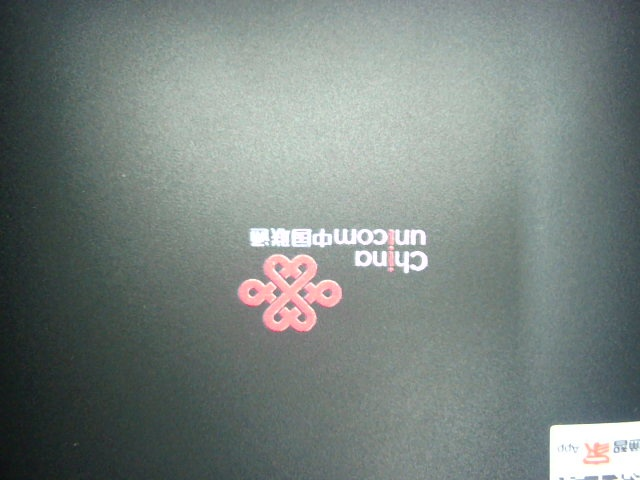AC_ChinaUnicom: (234, 220, 440, 334)
